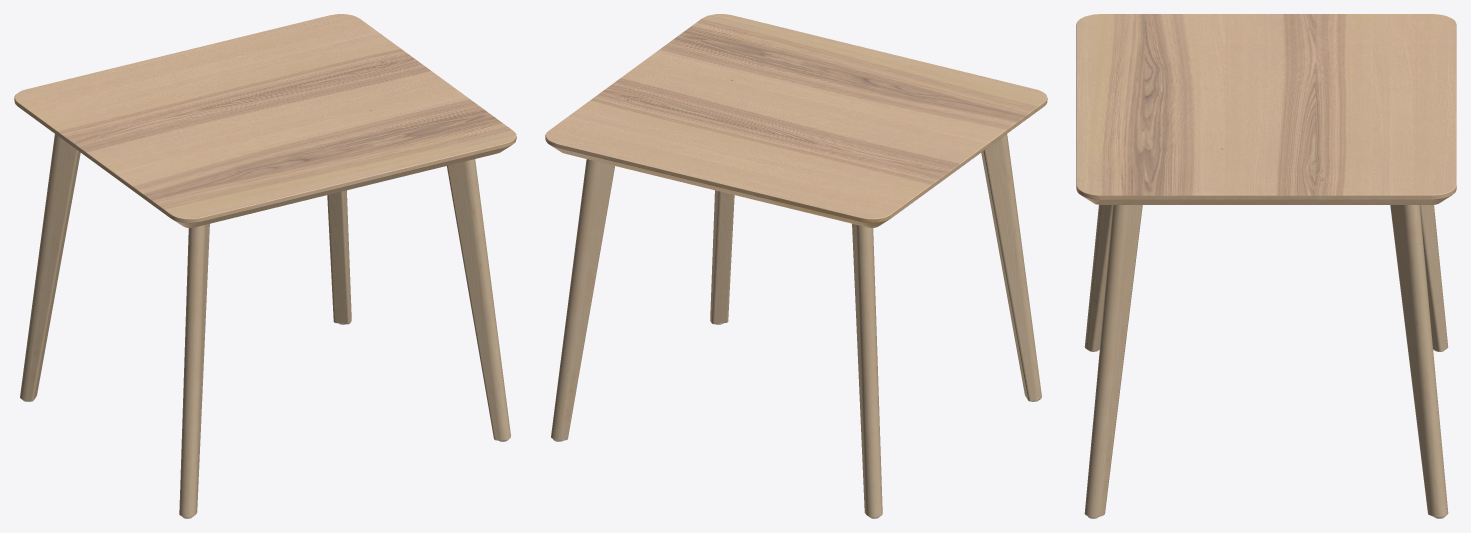
The model's file is LISABO_40563776.glb.
3 renders of one model, left to right at view 1: azimuth 30°, elevation 25°; view 2: azimuth 150°, elevation 25°; view 3: azimuth 270°, elevation 25°, orthographic. The views are drawn at different scales.
Parts seen in each view (by area): view 1: model; view 2: model; view 3: model.
Part boxes in pixels (left/top/right/bottom): model: left=14, top=14, right=516, bottom=518; model: left=545, top=14, right=1047, bottom=518; model: left=1076, top=14, right=1456, bottom=518.
Bounding box in the file's own units: 0.88 × 0.7446 × 0.78.
1 material, 1 textured.
